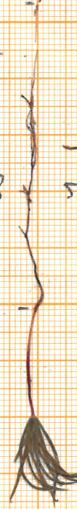flower: (3, 413, 77, 509)
root: (15, 46, 49, 309)
stem: (25, 308, 49, 416)
